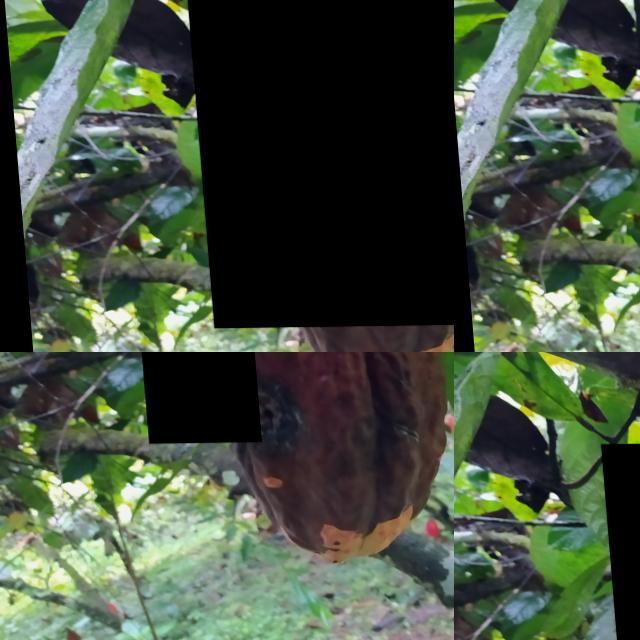Sana: (177, 0, 454, 328), (129, 352, 253, 444), (580, 61, 624, 127)
